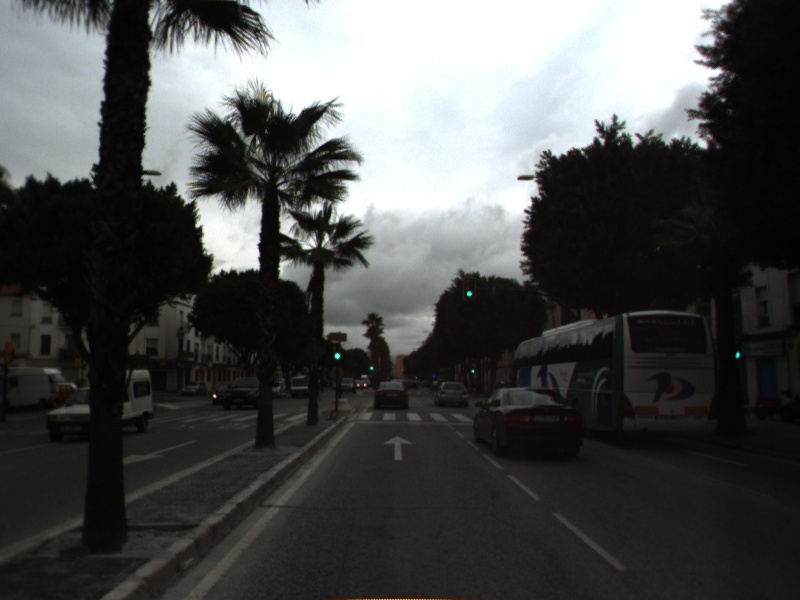STRAIGHT: (381, 434, 415, 462)
